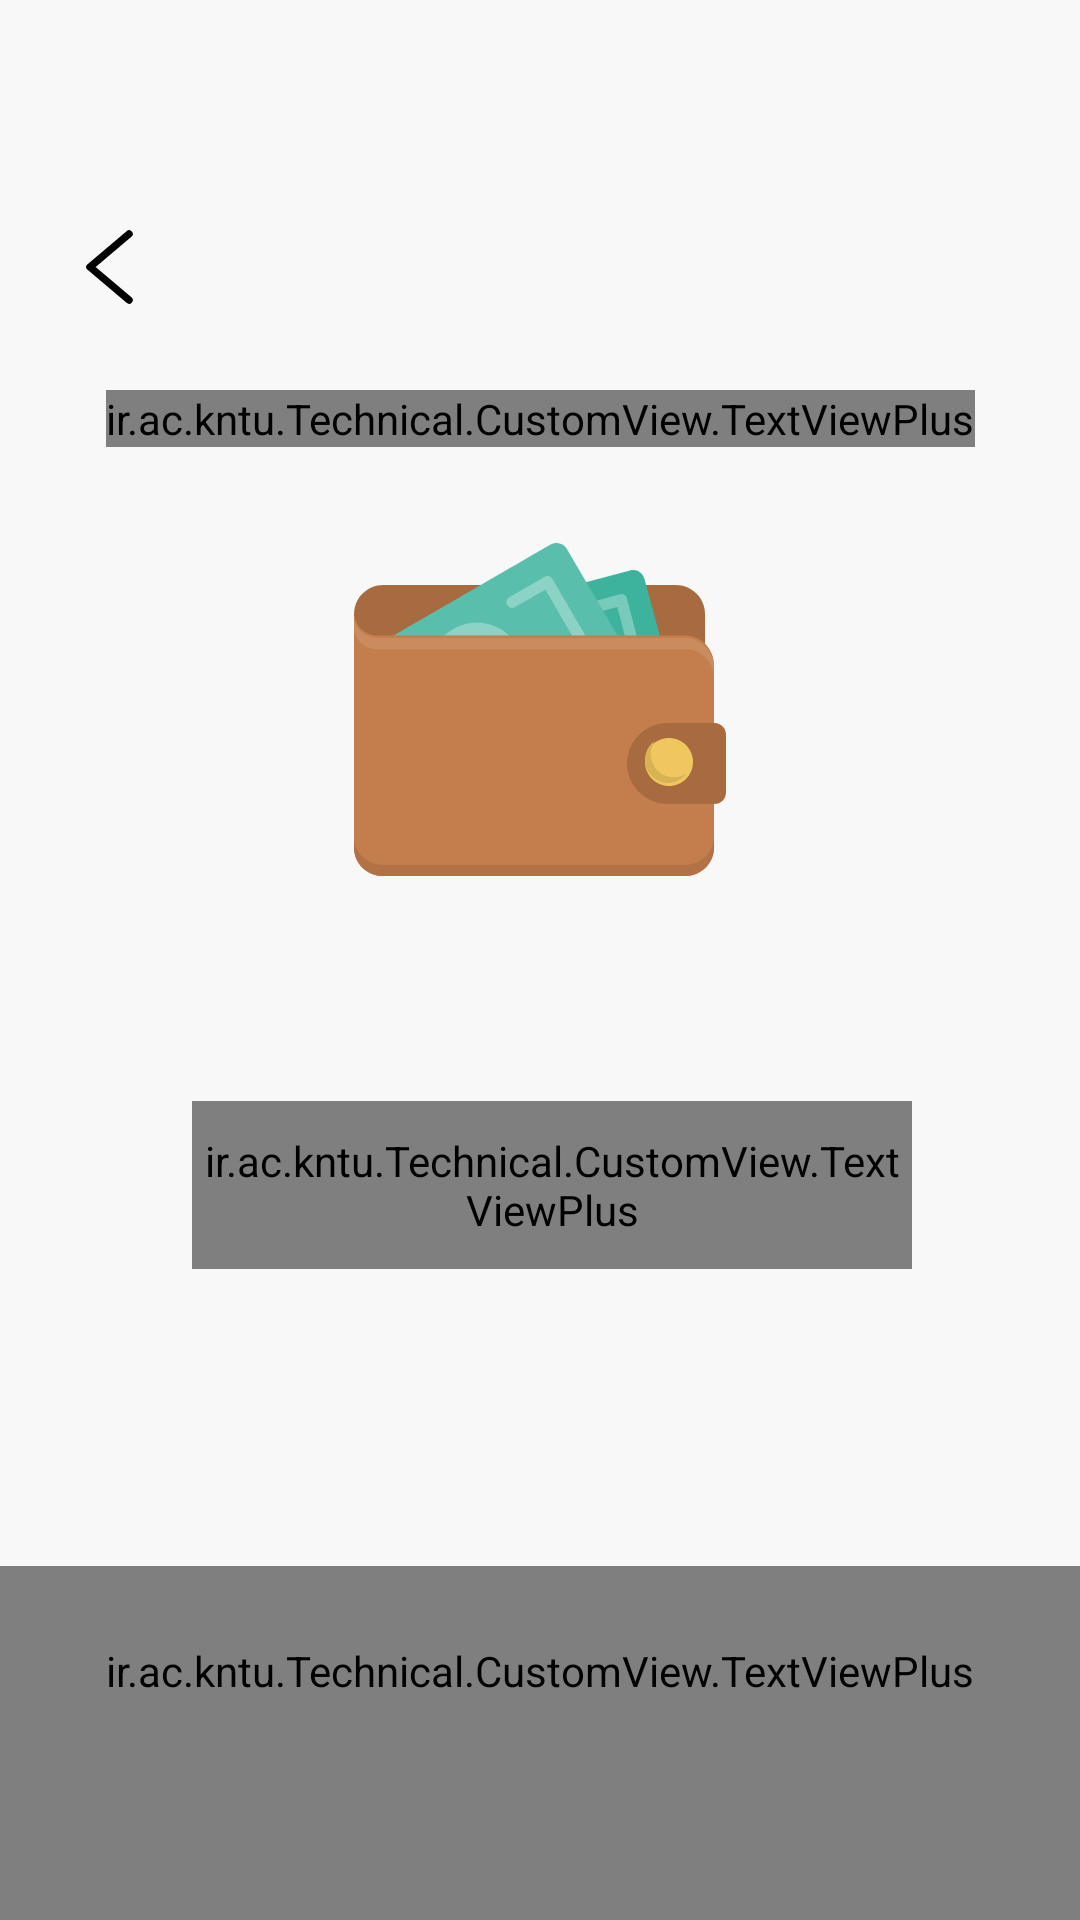

Icons on this 1080px x 1920px Android screen, each with the point to tap as (x,y):
back: (109,267)
